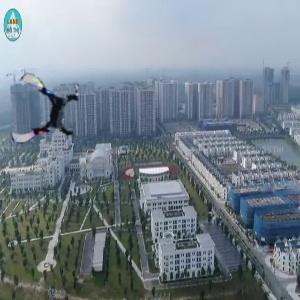drone: (9, 77, 83, 151)
